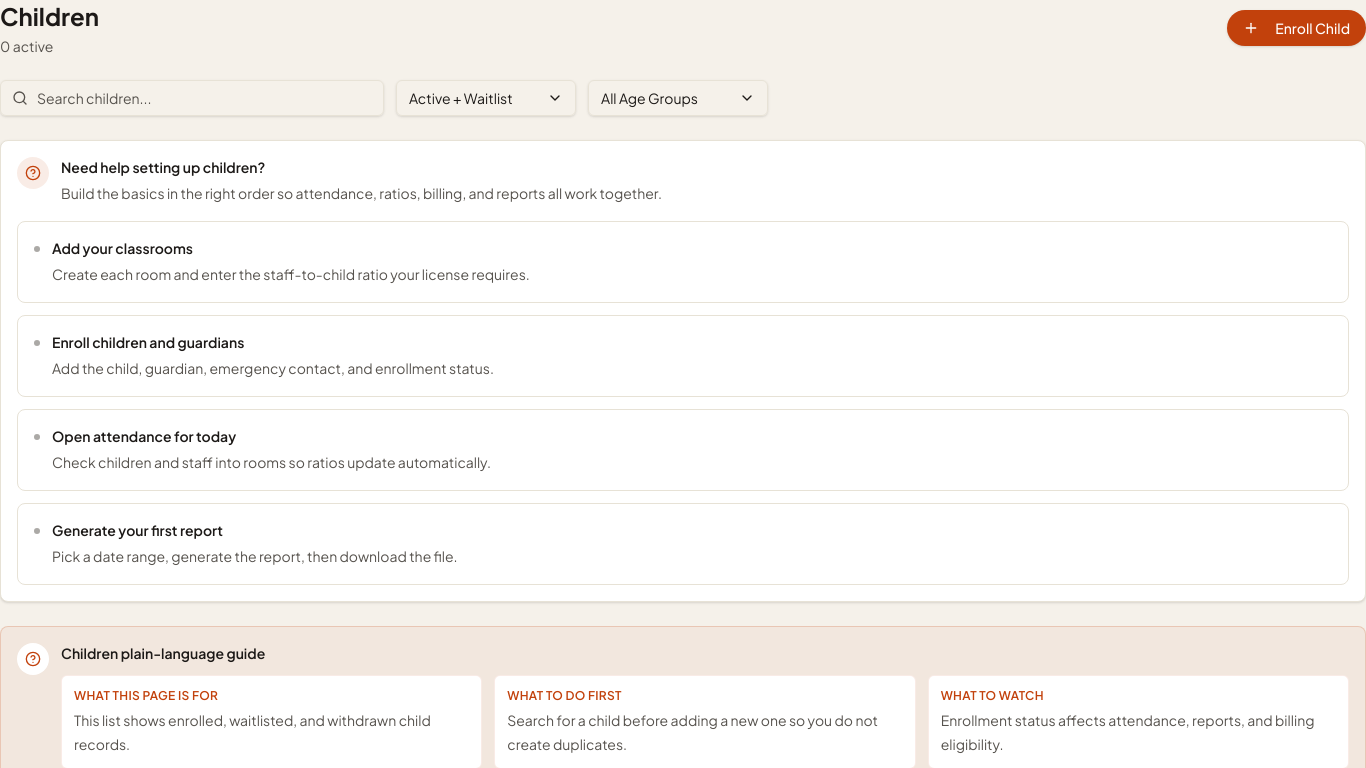
children list page date formatting › keeps Enroll child as primary CTA even when search has no results
This screenshot has width=1366, height=768.
Type "Mia" into the field with placeholder "Search children..." at (192, 98), box [0,80,384,116]
(page scrolled)
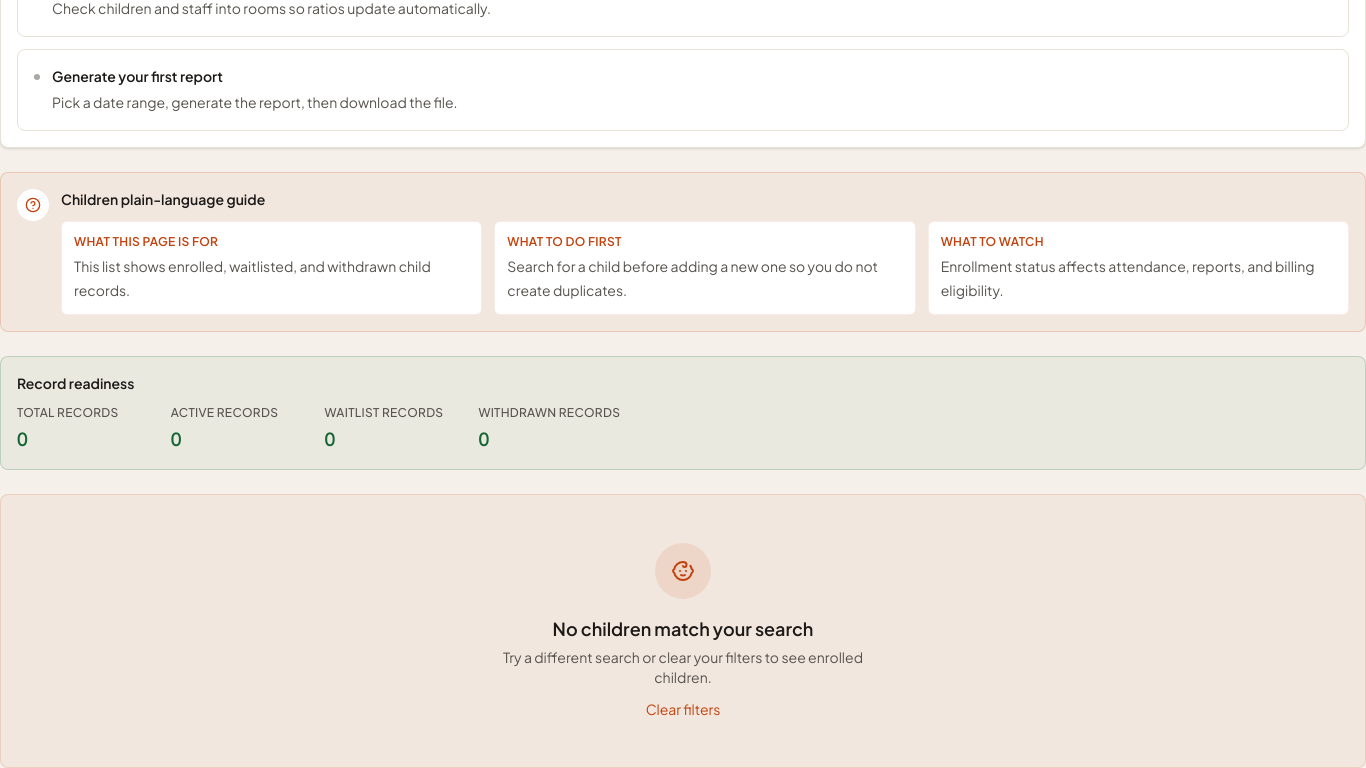
Now the heading "No children match your search" is shown, box [553,615,813,643]
Now the text "Try a different search or clear your filters to see enrolled children." is shown, box [491,647,875,687]
Now the number of buttons "Clear filters" is 1, box [646,699,720,719]
